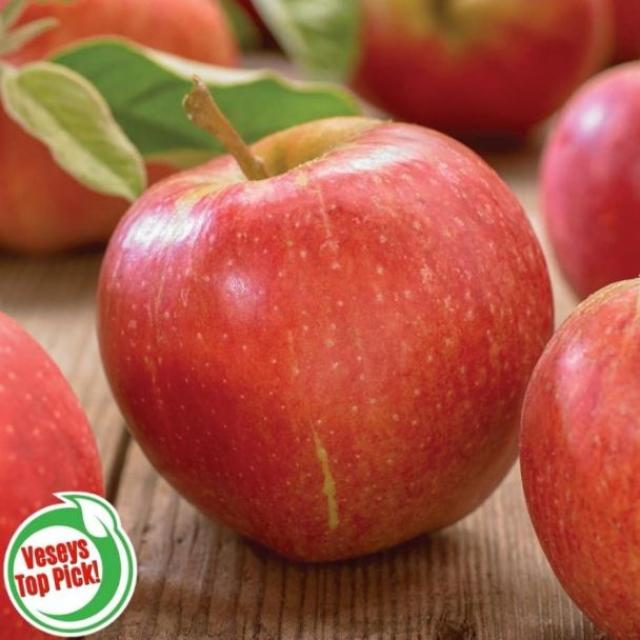Healty Apple: (87, 88, 553, 592)
